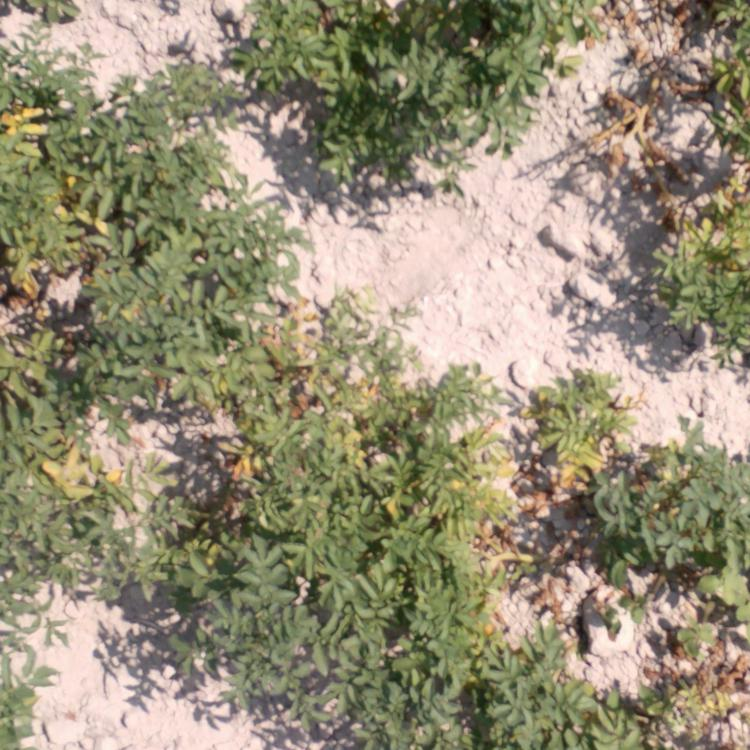healthy: (279, 541, 415, 750), (136, 514, 278, 712), (138, 73, 264, 286), (614, 441, 750, 617), (239, 1, 426, 103), (426, 652, 621, 741), (438, 1, 565, 128), (149, 285, 246, 395), (312, 106, 435, 187), (1, 598, 63, 741)
stressed: (254, 312, 503, 515), (1, 298, 135, 591), (1, 43, 133, 295), (627, 162, 750, 371), (585, 1, 750, 154), (626, 617, 750, 750), (429, 520, 532, 649), (502, 362, 606, 478), (152, 400, 227, 504)
